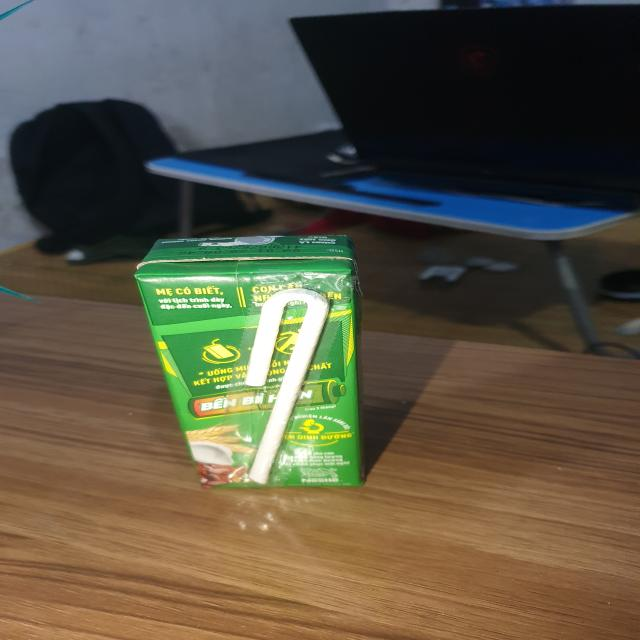Milo: (135, 233, 389, 496)
